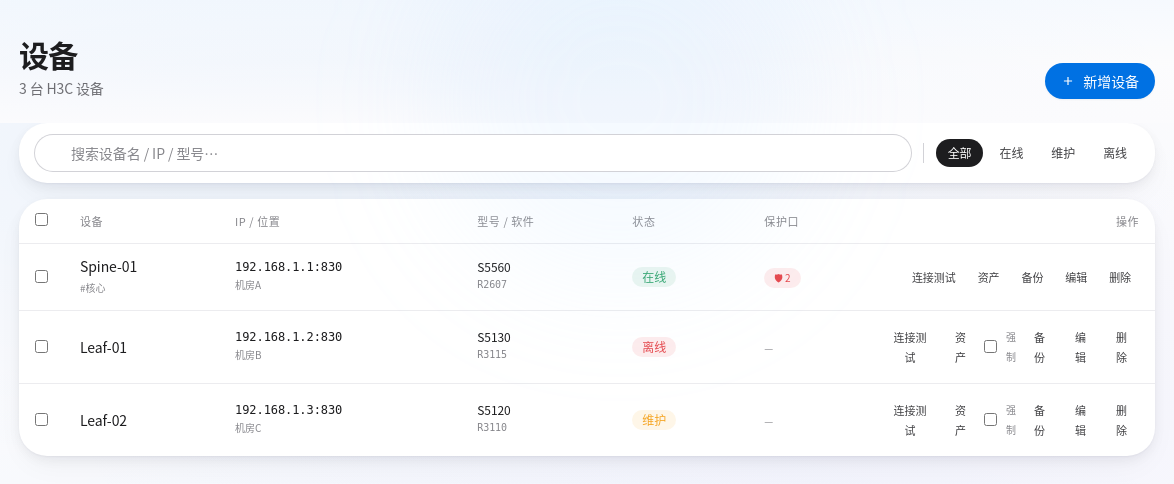
Test case: Devices 组件 › case 6: 搜索过滤 —— 输入搜索词，filtered 列表变化
The width and height of the screenshot is (1174, 484).
Step 1. Type "leaf" into the field with placeholder "搜索设备名 / IP / 型号…" → (473, 152), box [35,134,911,170]
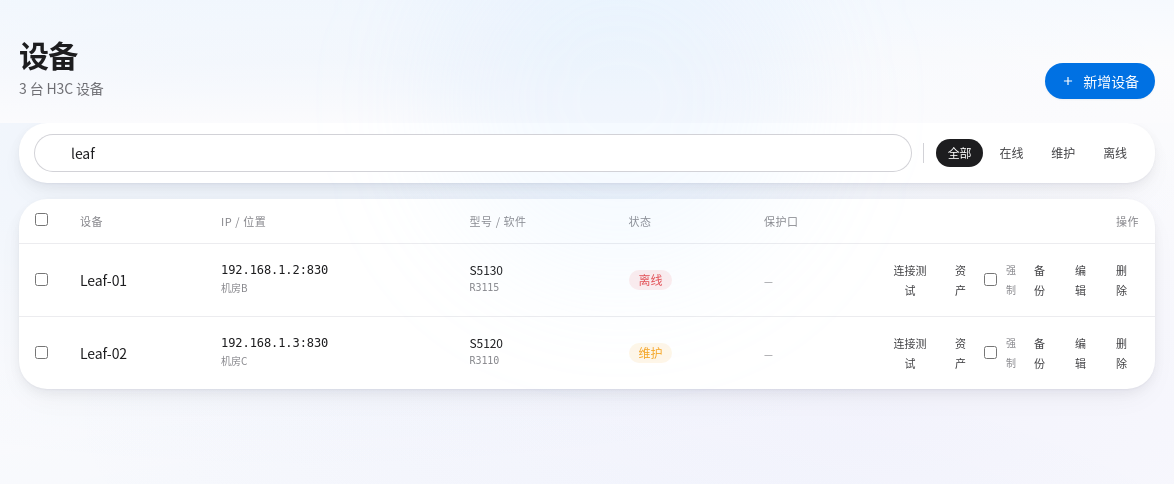
Expected: the text "Leaf-01" is shown, [80,270,127,290]
Result: the text "Spine-01" is gone
Note: 再精确到 "leaf-01"
Step 2. Replace the text in the field with "leaf-01" → (473, 152), box [35,134,911,170]
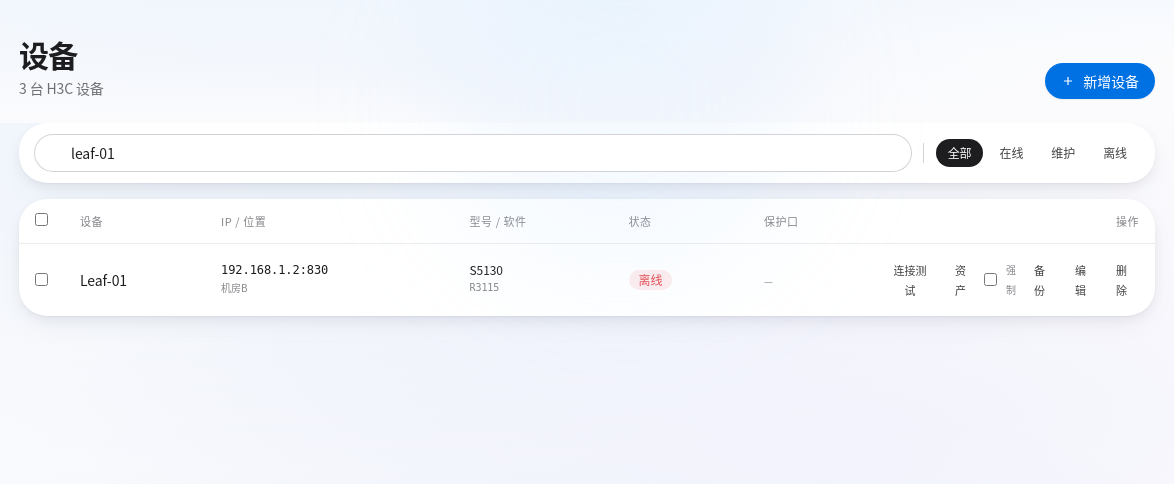
Expected: the text "Leaf-01" is shown, [80,270,127,290]
Result: the text "Leaf-02" is gone
